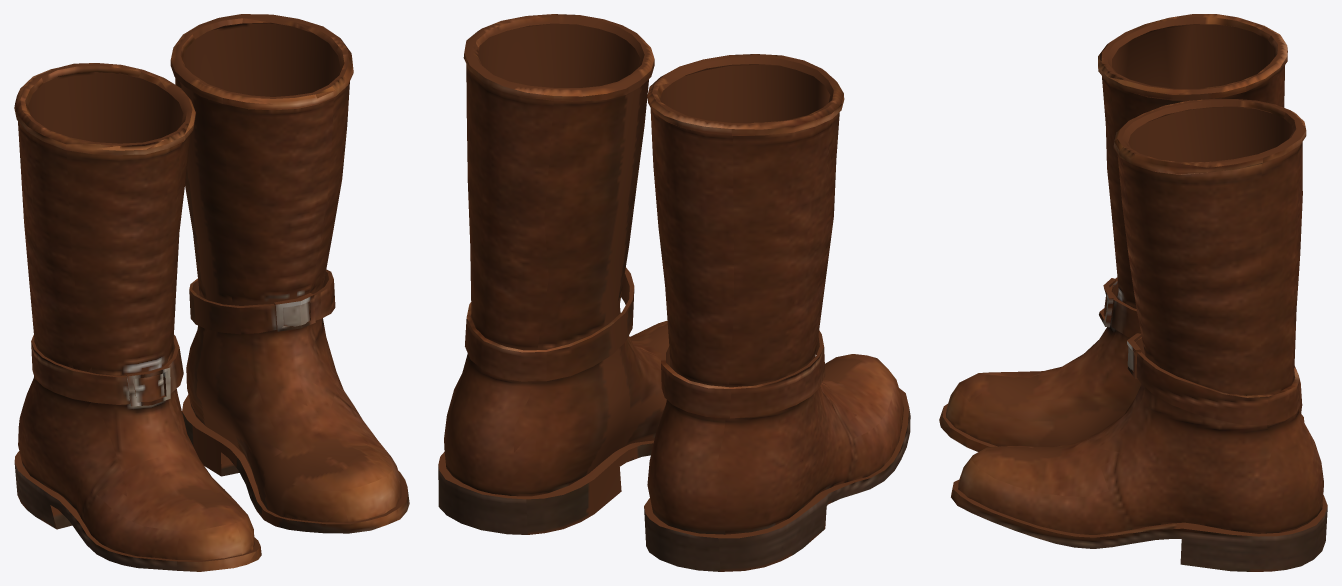
The model's file is item_mm9_10127.glb.
3 renders of one model, left to right at view 1: azimuth 30°, elevation 25°; view 2: azimuth 150°, elevation 25°; view 3: azimuth 270°, elevation 25°, orthographic. The views are drawn at different scales.
Visible parts, largest first — view 1: d10127; view 2: d10127; view 3: d10127.
Part boxes in pixels (x1,y1,x2,y2): d10127: (14,14,409,571); d10127: (438,14,910,571); d10127: (939,14,1327,571).
Size of the model in its own units: 0.8296 by 1 by 0.8666.
1 material, 1 textured.
